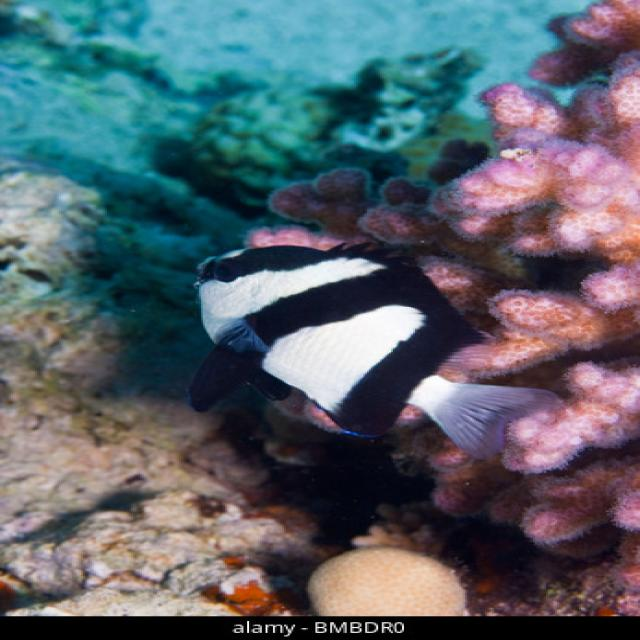ThreeStripedDamselfish: (190, 247, 559, 461)
